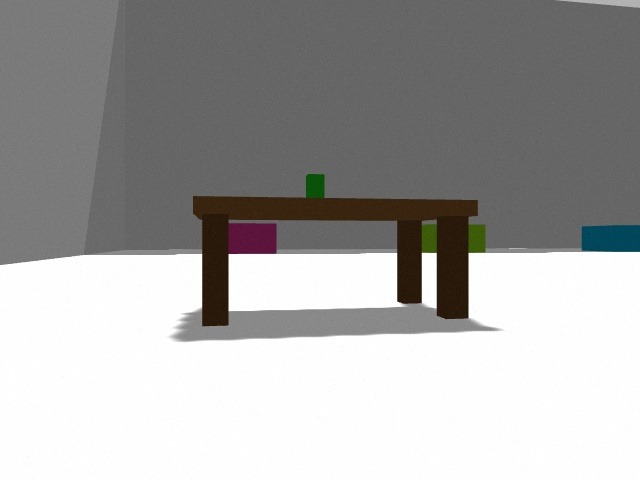blue_drop_zone: (582, 225, 640, 252)
green_cube: (306, 174, 325, 197)
green_drop_zone: (469, 224, 486, 253), (422, 224, 436, 253)
red_drop_zone: (229, 223, 277, 254)
